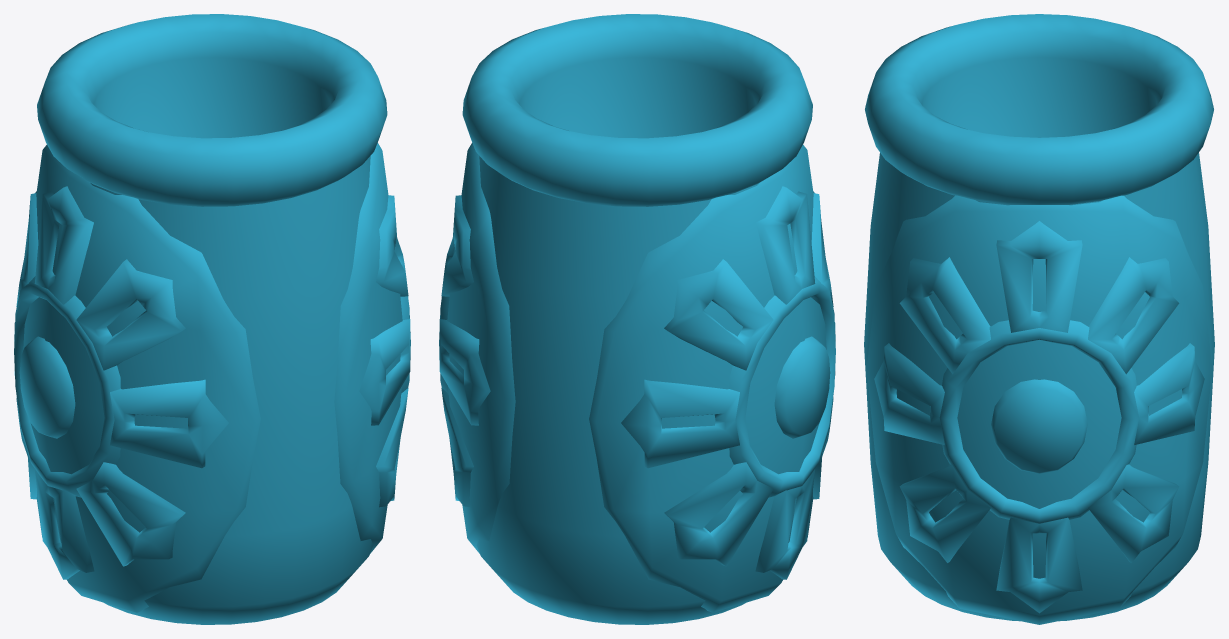
File: GB_172_vase.glb
3 renders of one model, left to right at view 1: azimuth 30°, elevation 25°; view 2: azimuth 150°, elevation 25°; view 3: azimuth 270°, elevation 25°, orthographic.
Parts seen in each view (by area): view 1: Vase; view 2: Vase; view 3: Vase.
Boxes of the visible parts, box(x1,y1,x2,y2) form: Vase: box(14, 14, 410, 624); Vase: box(439, 14, 835, 624); Vase: box(864, 14, 1214, 624).
Size of the model in its own units: 0.8519 by 1.13 by 0.7347.
